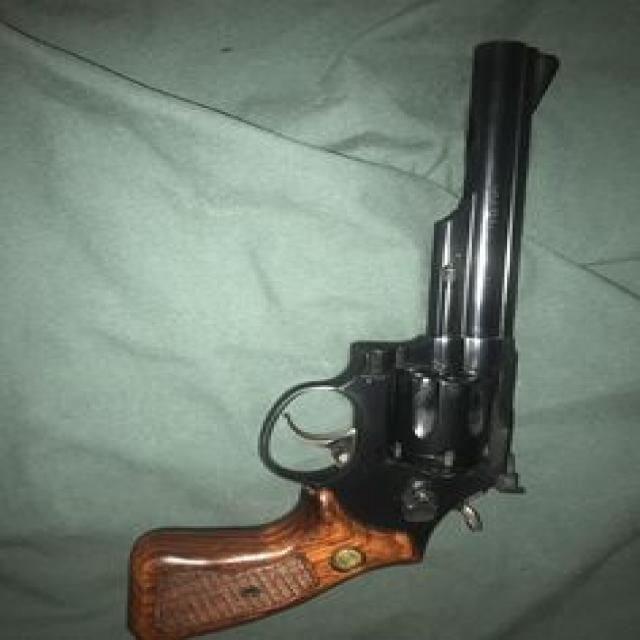revolver: (90, 32, 612, 640)
